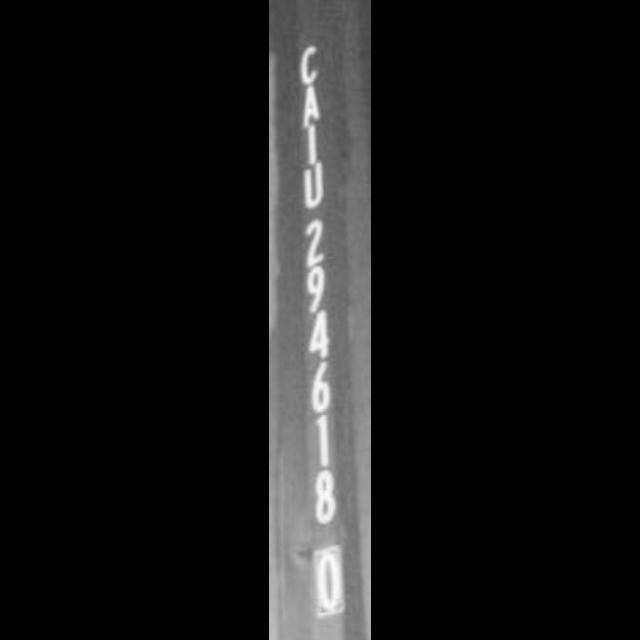0: (309, 538, 349, 622)
1: (304, 414, 344, 468)
2: (294, 216, 336, 270)
4: (298, 312, 342, 366)
6: (300, 365, 340, 415)
8: (310, 465, 346, 527)
9: (298, 264, 336, 316)
a: (292, 83, 336, 133)
c: (283, 32, 333, 88)
i: (288, 126, 332, 168)
u: (288, 163, 336, 210)
